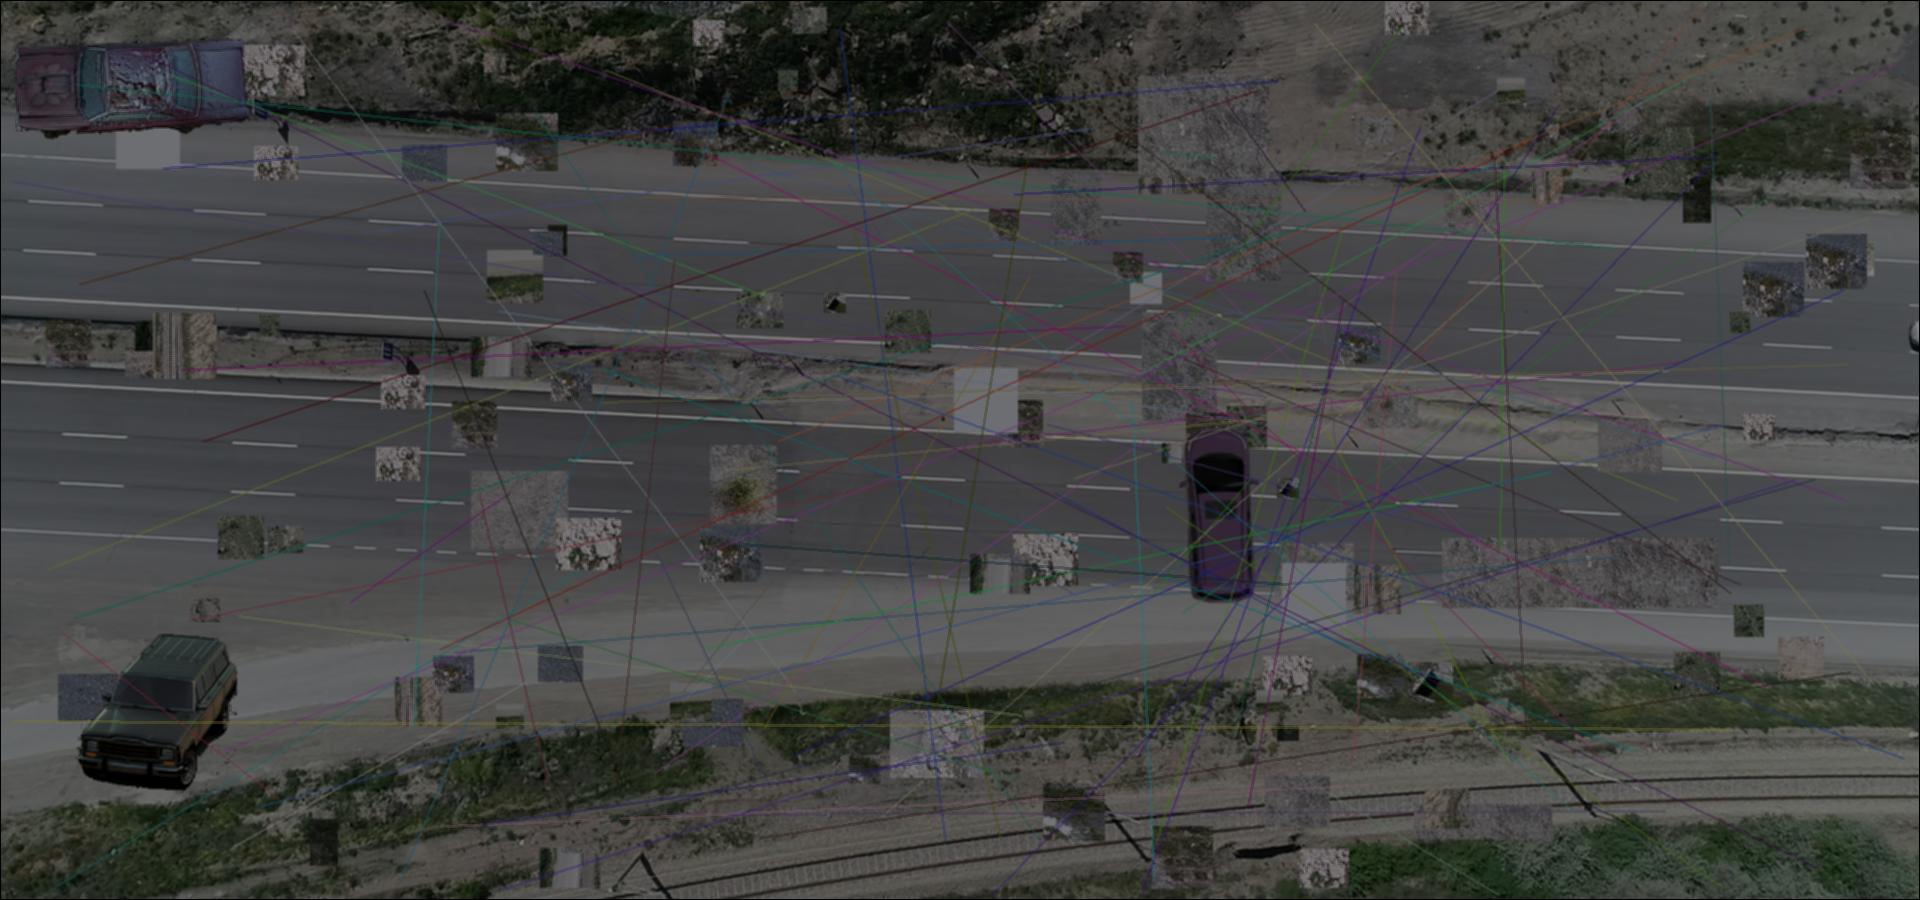arac: (75, 632, 238, 792), (9, 36, 249, 140), (1178, 425, 1260, 609)
